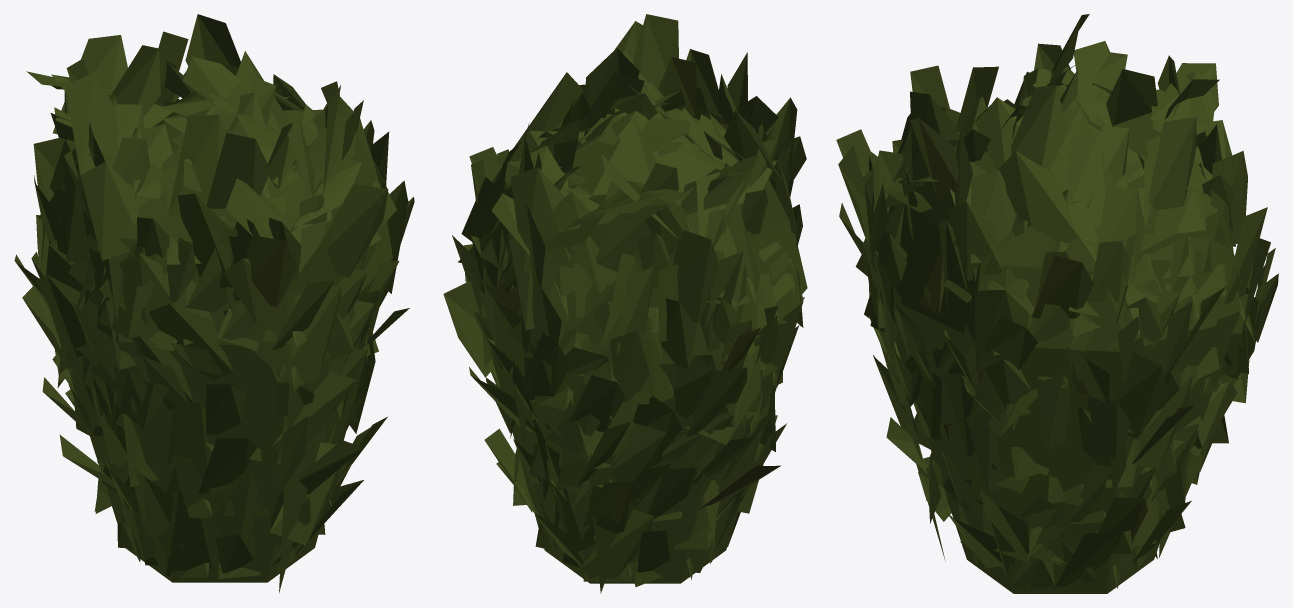
The model's file is SM_Bush_Yew_Mature_A.fbx.
3 views of the same model, side by side, from view 1: azimuth 30°, elevation 25°; view 2: azimuth 150°, elevation 25°; view 3: azimuth 270°, elevation 25° (orthographic). The views are drawn at different scales.
Parts seen in each view (by area): view 1: bush-yew-mature-a; view 2: bush-yew-mature-a; view 3: bush-yew-mature-a.
Part boxes in pixels (box(x1,y1,x2,y2)): bush-yew-mature-a: box(14, 14, 414, 592); bush-yew-mature-a: box(443, 14, 807, 593); bush-yew-mature-a: box(836, 14, 1278, 593).
Size of the model in its own units: 1.13 by 1.58 by 1.28.
